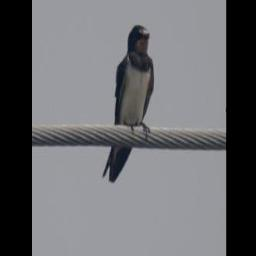Swallow: (102, 24, 154, 182)
